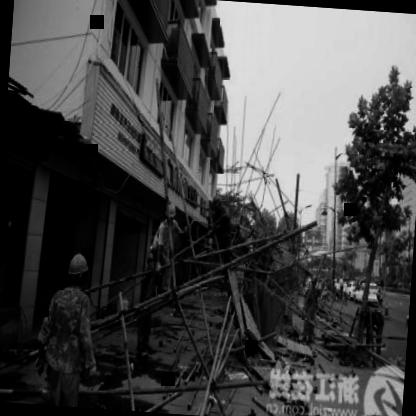helmet: (64, 252, 92, 289), (146, 247, 160, 270), (164, 202, 178, 224), (212, 192, 225, 212)
